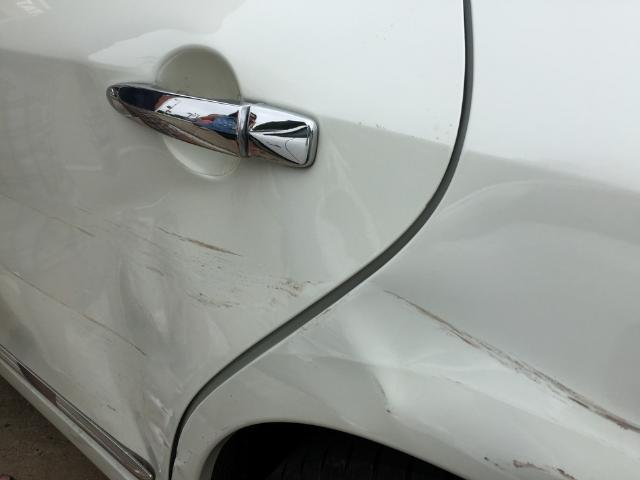Door: (0, 49, 462, 480)
Fender: (158, 294, 640, 480)
